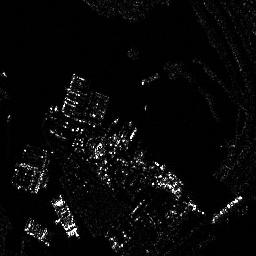ship: (141, 71, 159, 86)
